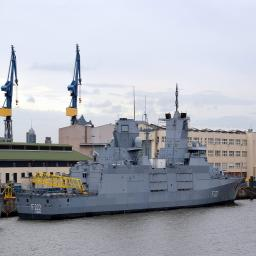Fragata: (14, 81, 248, 223)
